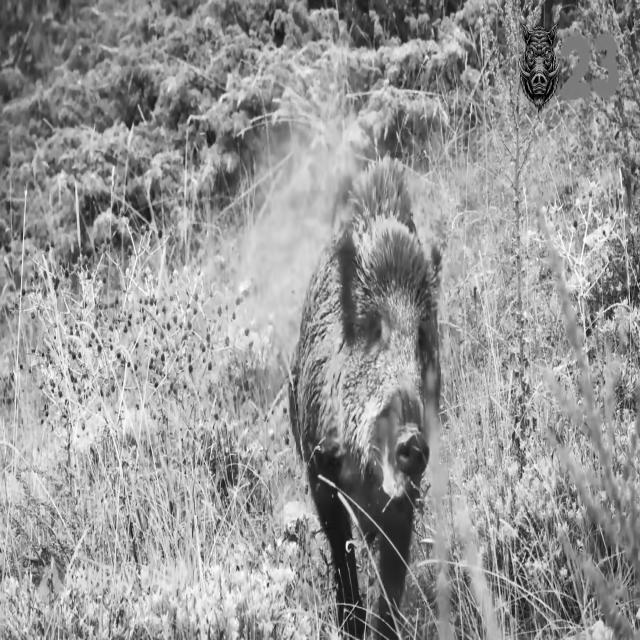boar: (290, 156, 440, 637), (520, 20, 561, 111)
